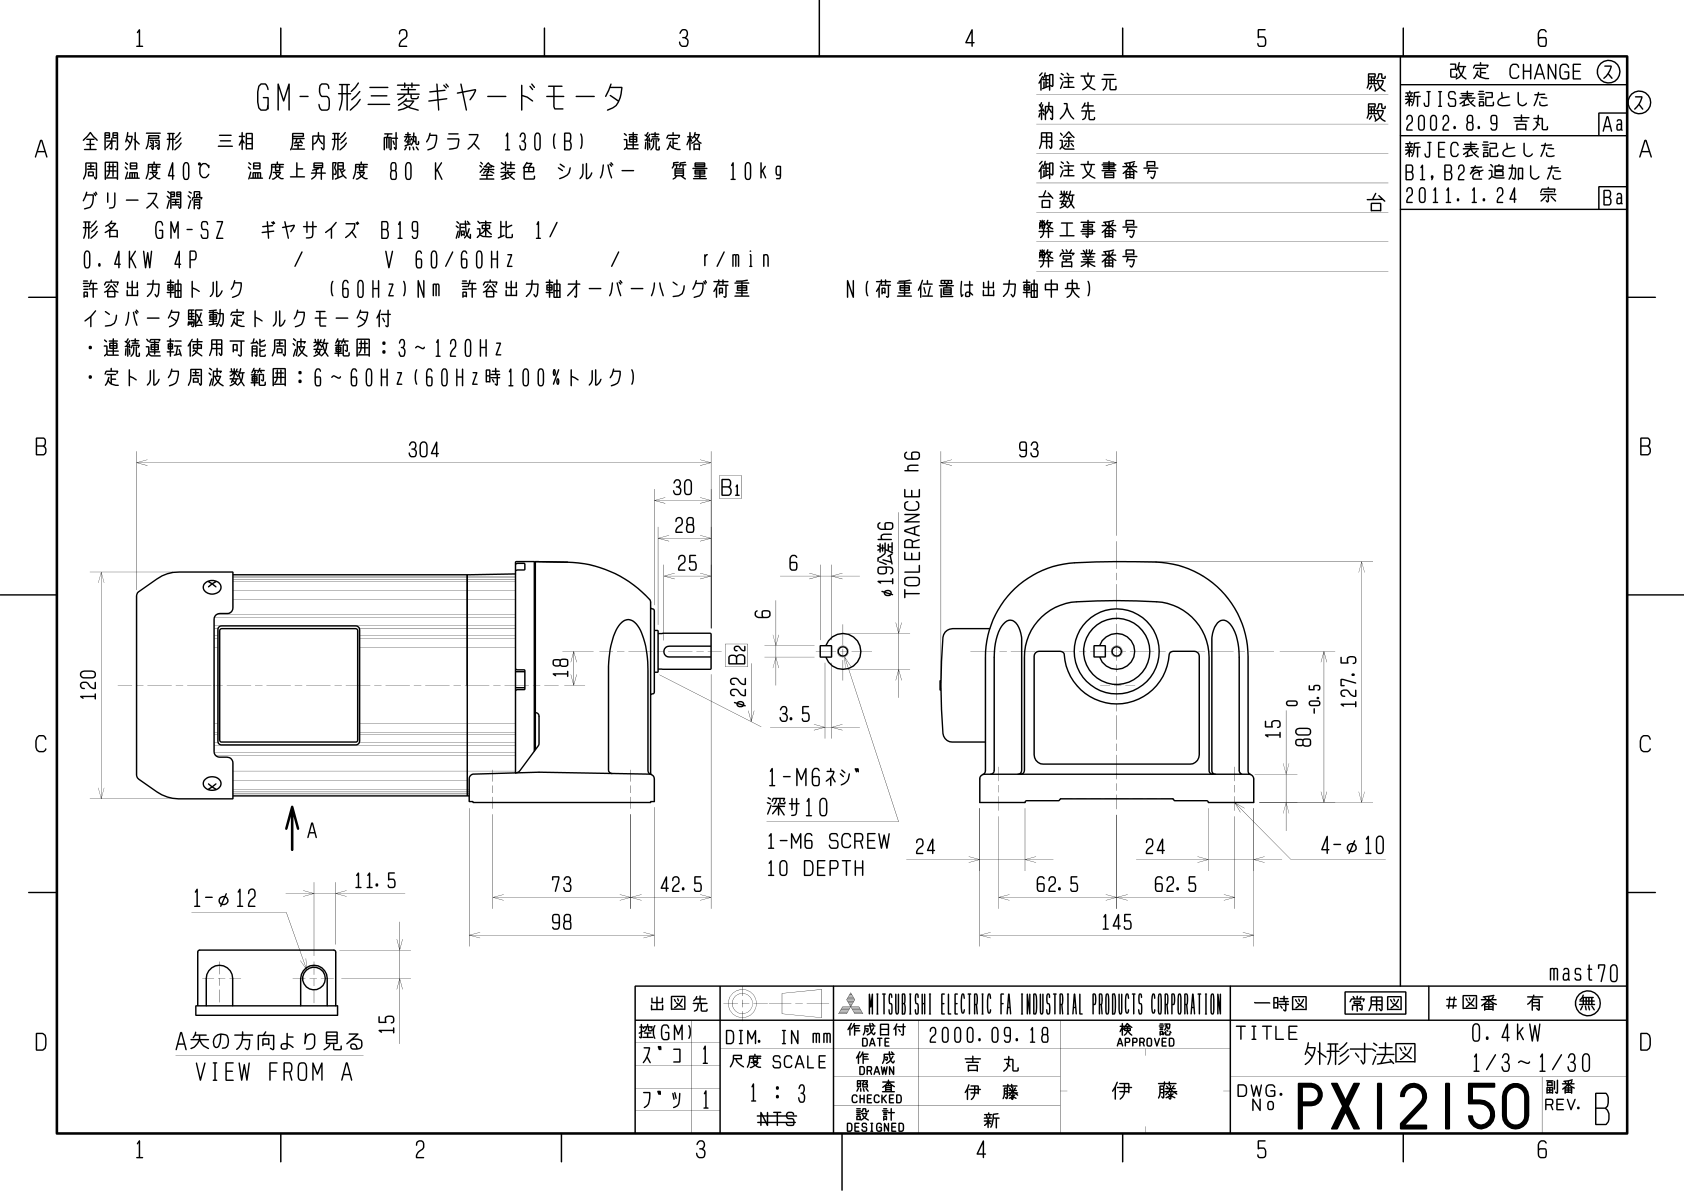GM_S_インバタ屋外＿三相_脚: (75, 403, 1393, 967)
